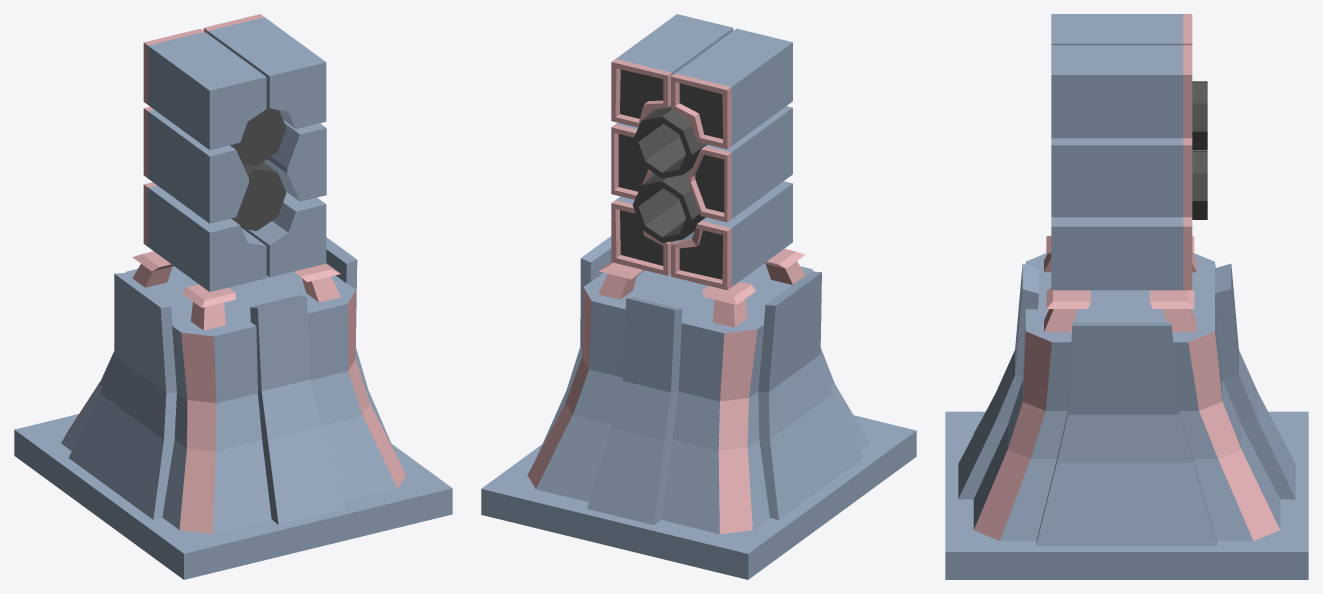
Rendered from TorresSlowAVC3.fbx.
The picture shows the model from 3 angles, left to right: view 1: azimuth 30°, elevation 25°; view 2: azimuth 150°, elevation 25°; view 3: azimuth 270°, elevation 25°; orthographic projection. The views are drawn at different scales.
Parts seen in each view (by area): view 1: Base, Torre; view 2: Base, Torre; view 3: Base, Torre.
Boxes of the visible parts, box(x1,y1,x2,y2) form: Base: box(14, 237, 452, 579); Torre: box(143, 14, 326, 291); Base: box(481, 236, 916, 579); Torre: box(611, 14, 792, 290); Base: box(945, 235, 1308, 579); Torre: box(1051, 14, 1207, 290).
Bounding box in the file's own units: 516 × 798 × 565.
